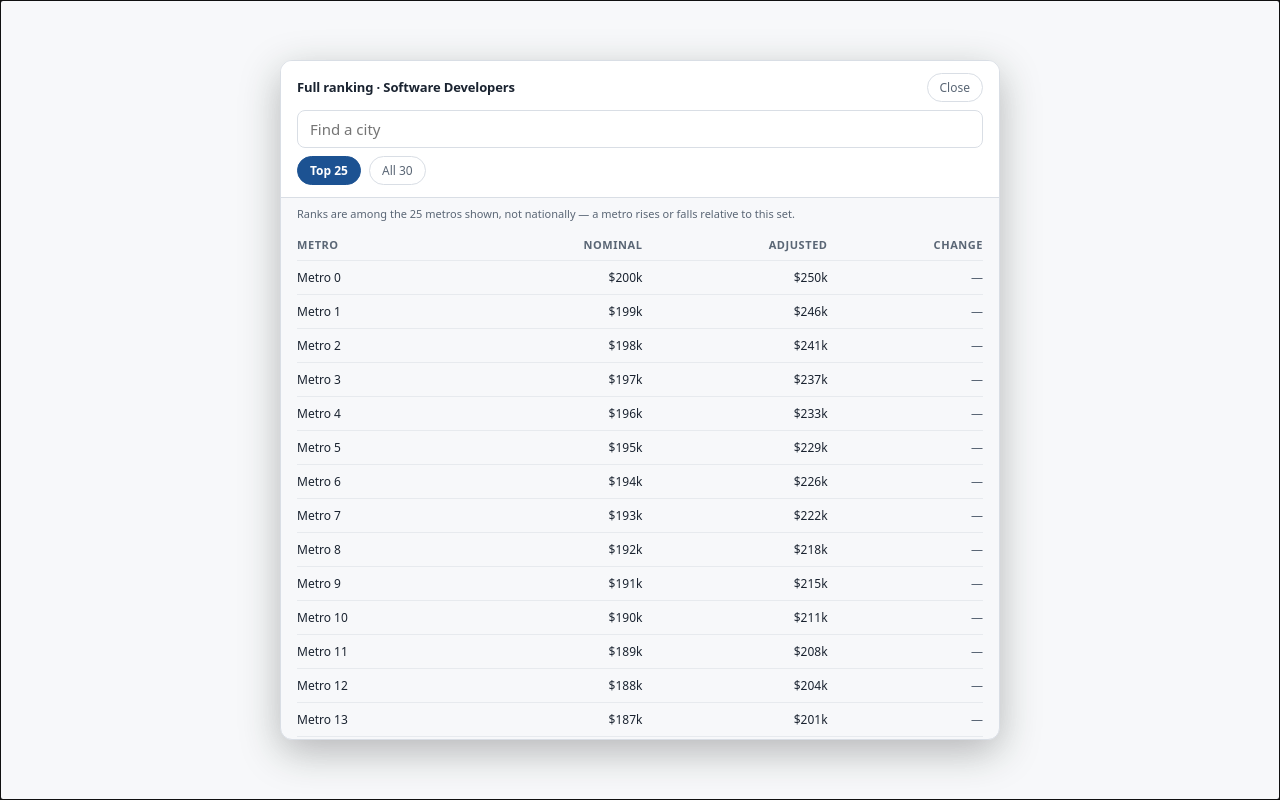
Test: SlopeExplorer › changing the count re-ranks rather than slicing — the caption tracks the visible set
Expected: the text with class "sx-basis" shows "25 metros shown", [297,206,795,221]
Click the button "All 30" at {"x": 397, "y": 170}, box [369,156,426,185]
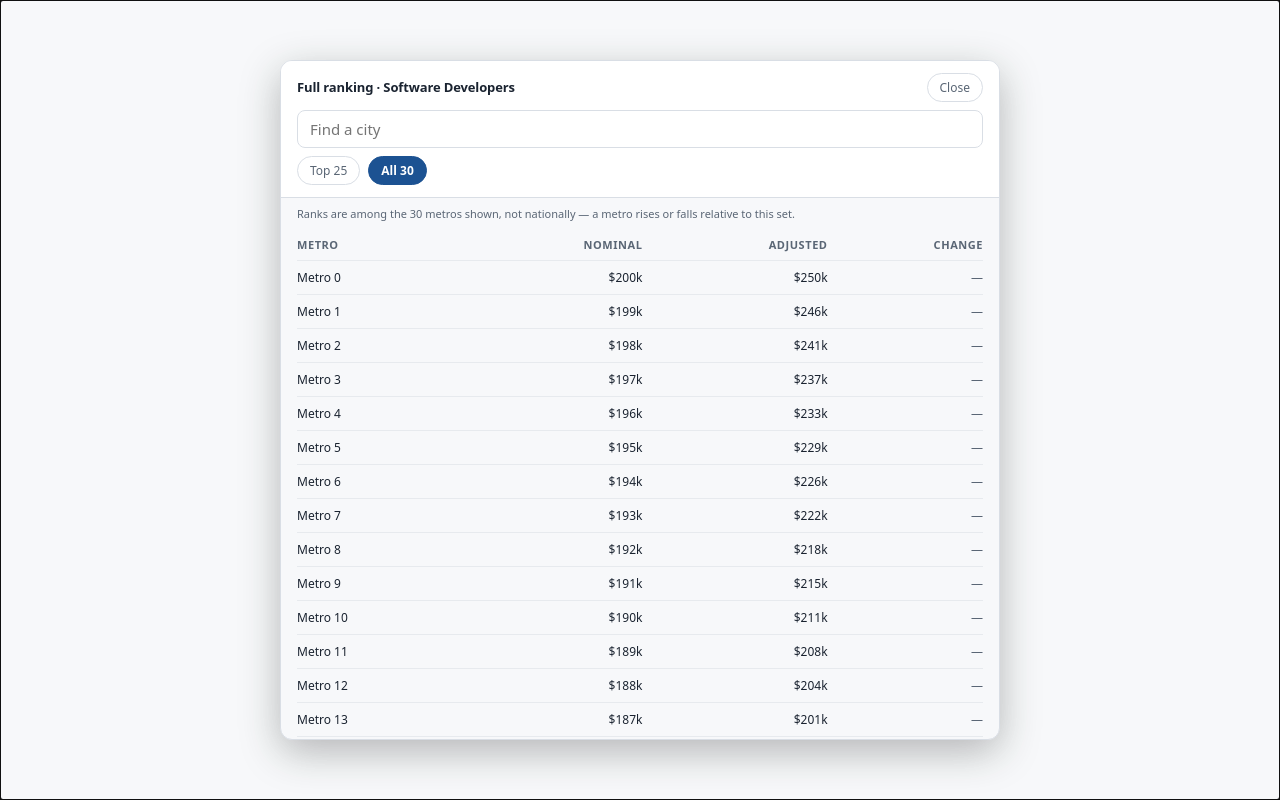
Now the text with class "sx-basis" shows "30 metros shown", box [297,206,795,221]
